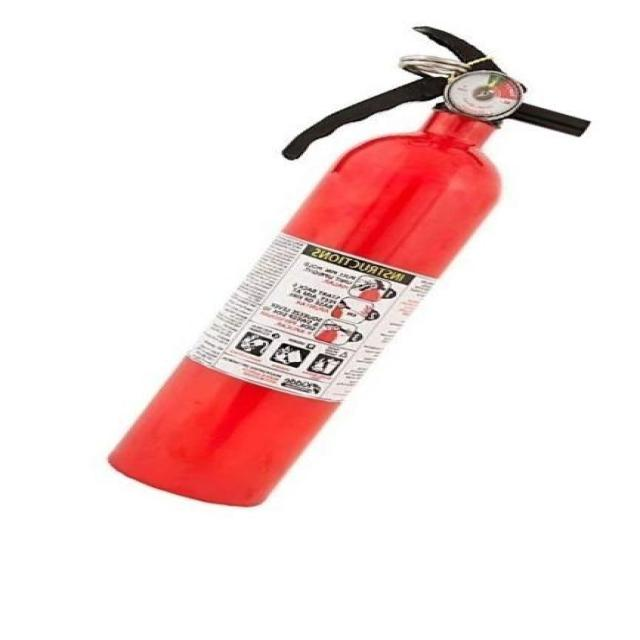fire_extinguisher: (98, 20, 597, 509)
